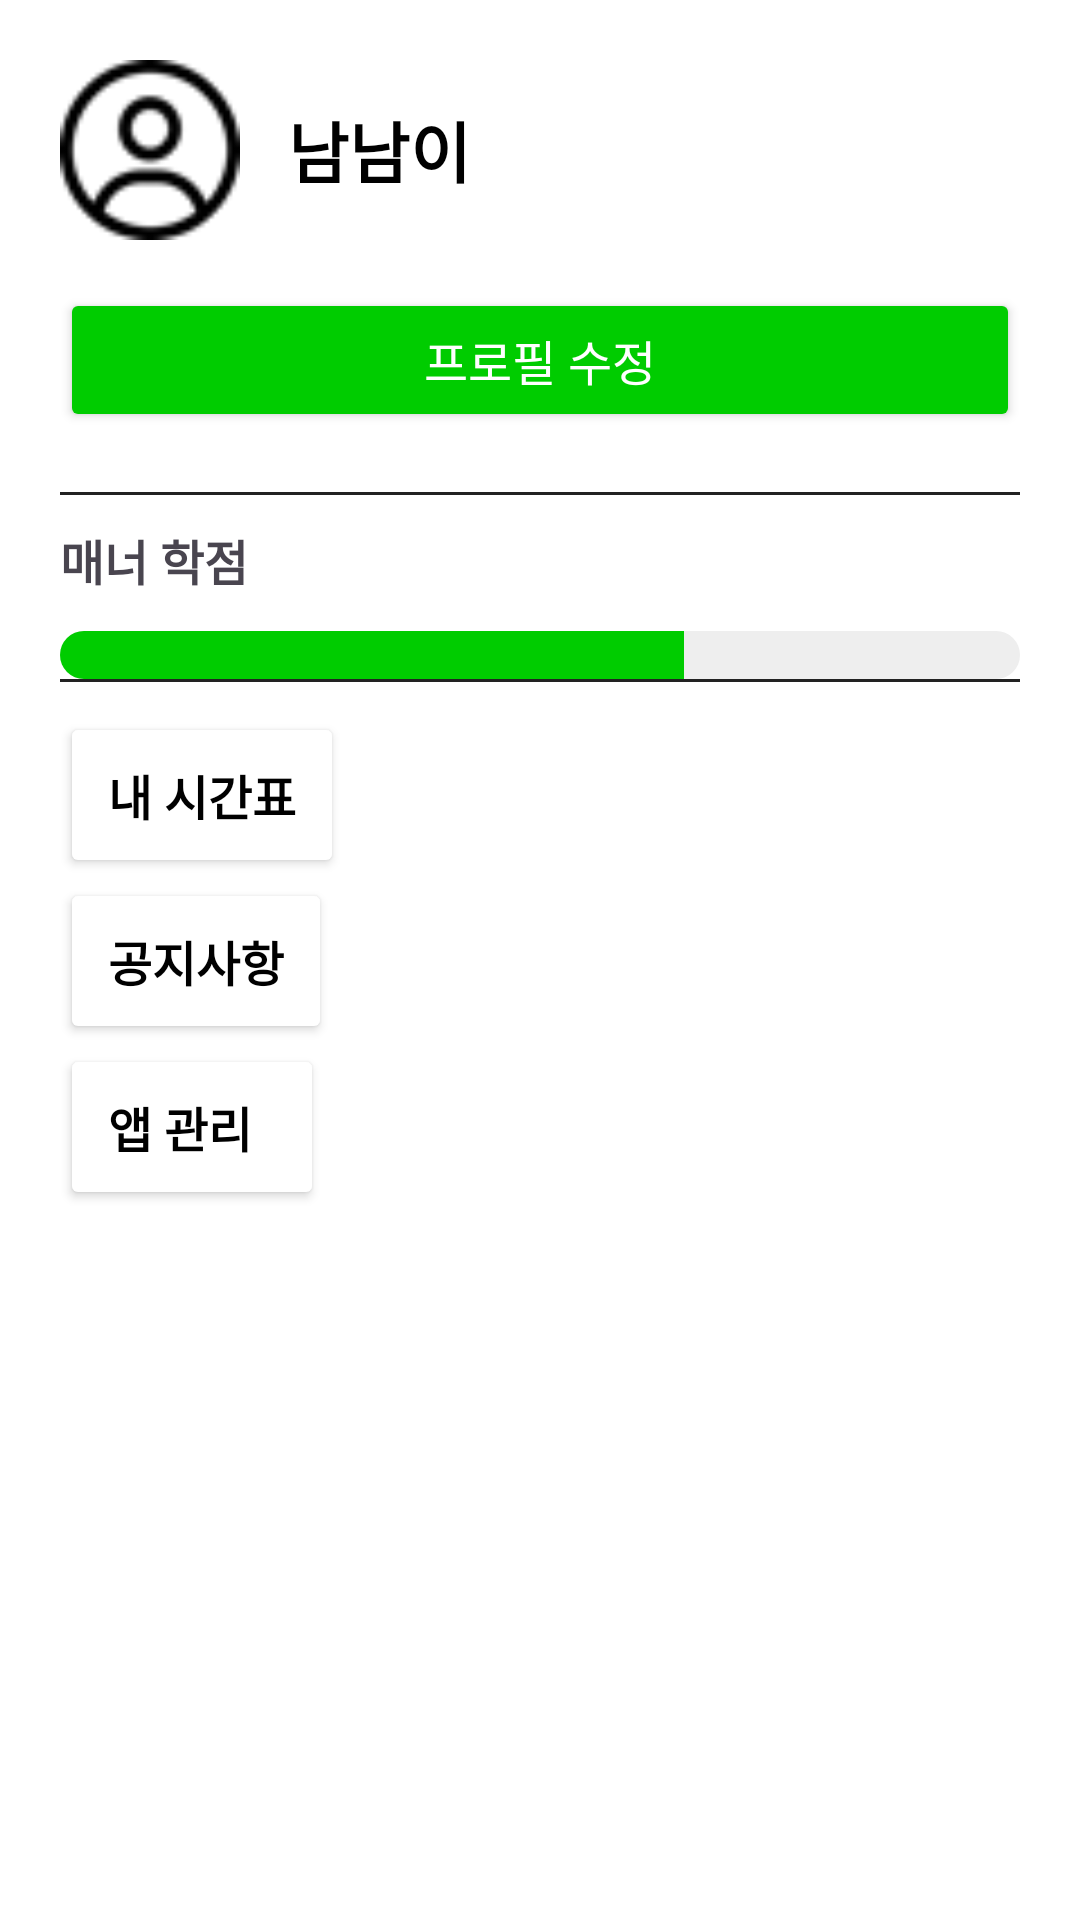

Icon bounding boxes for this 1080x1920 phone screenshot, format detection(x1, y1, x2, y2):
프로필 이미지: detection(60, 60, 240, 240)
